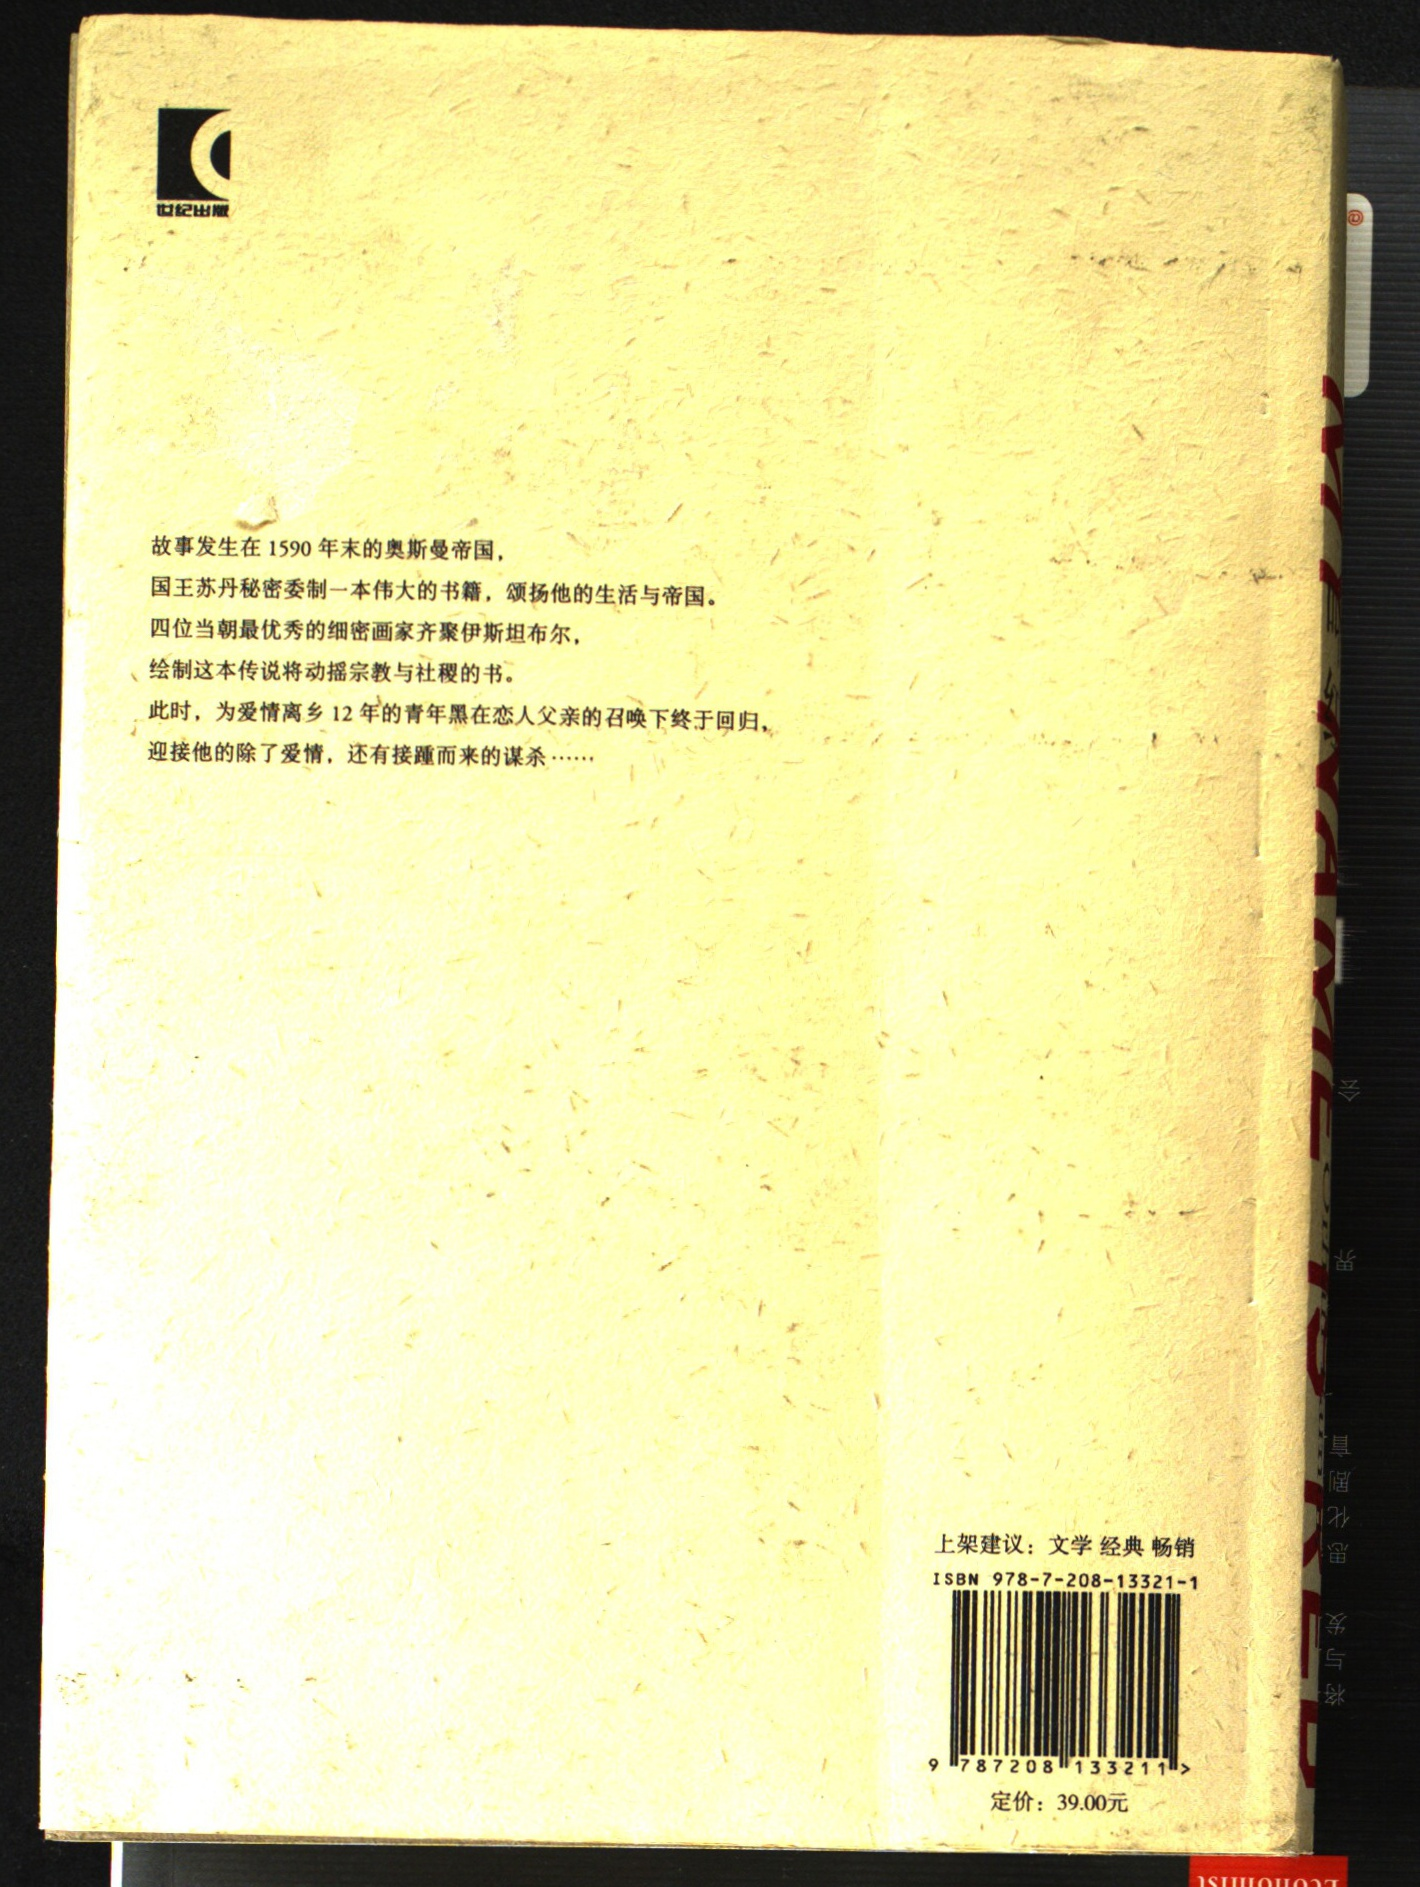barcode: (919, 1577, 1216, 1765)
